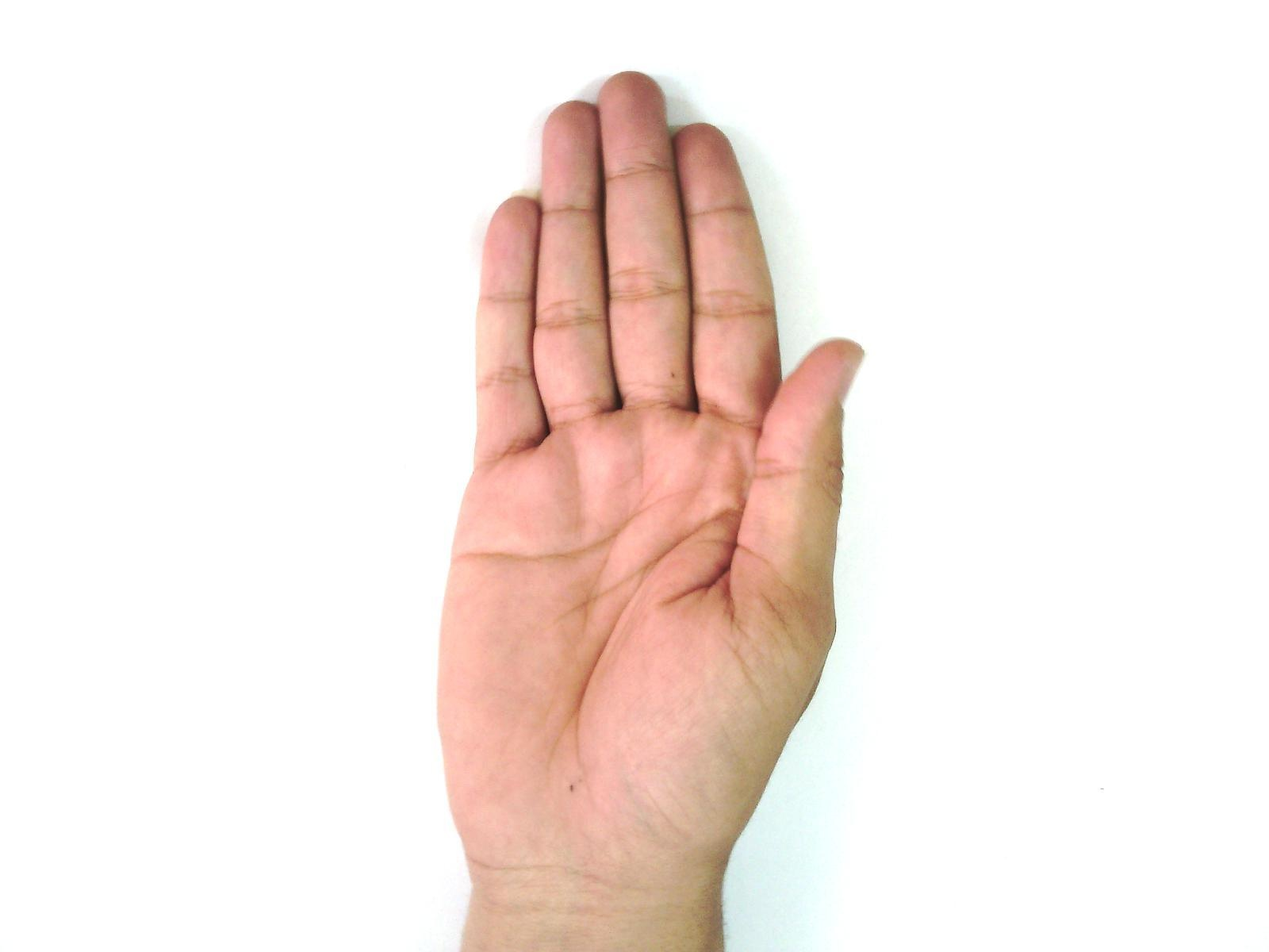open_palm: (432, 71, 868, 884)
